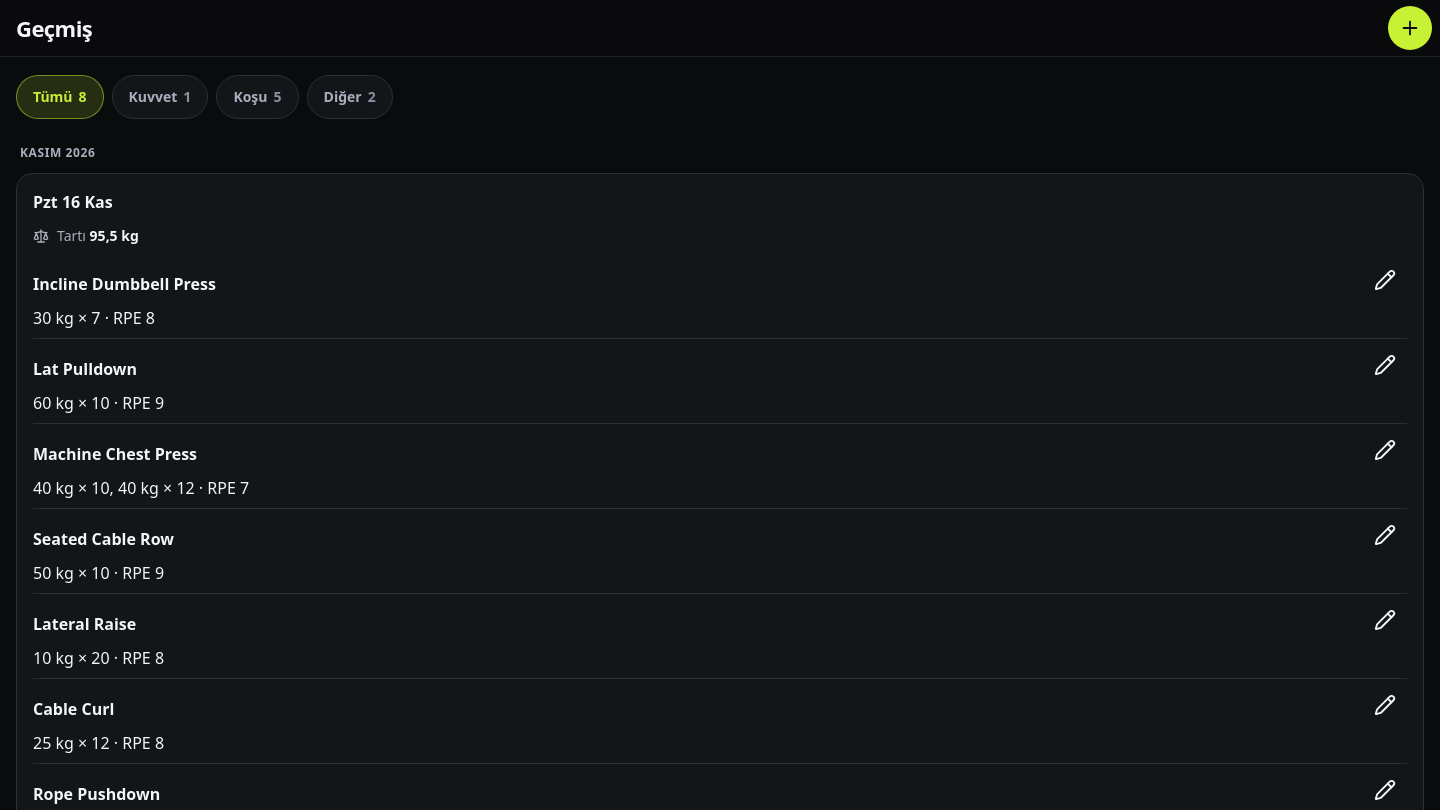
HistoryScreen › deletes every entry of an exercise-day only after confirmation
The image size is (1440, 810).
Click the button named "Machine Chest Press düzenle". click: (1385, 450)
box: x1=1363 y1=428 x2=1407 y2=472
(page scrolled)
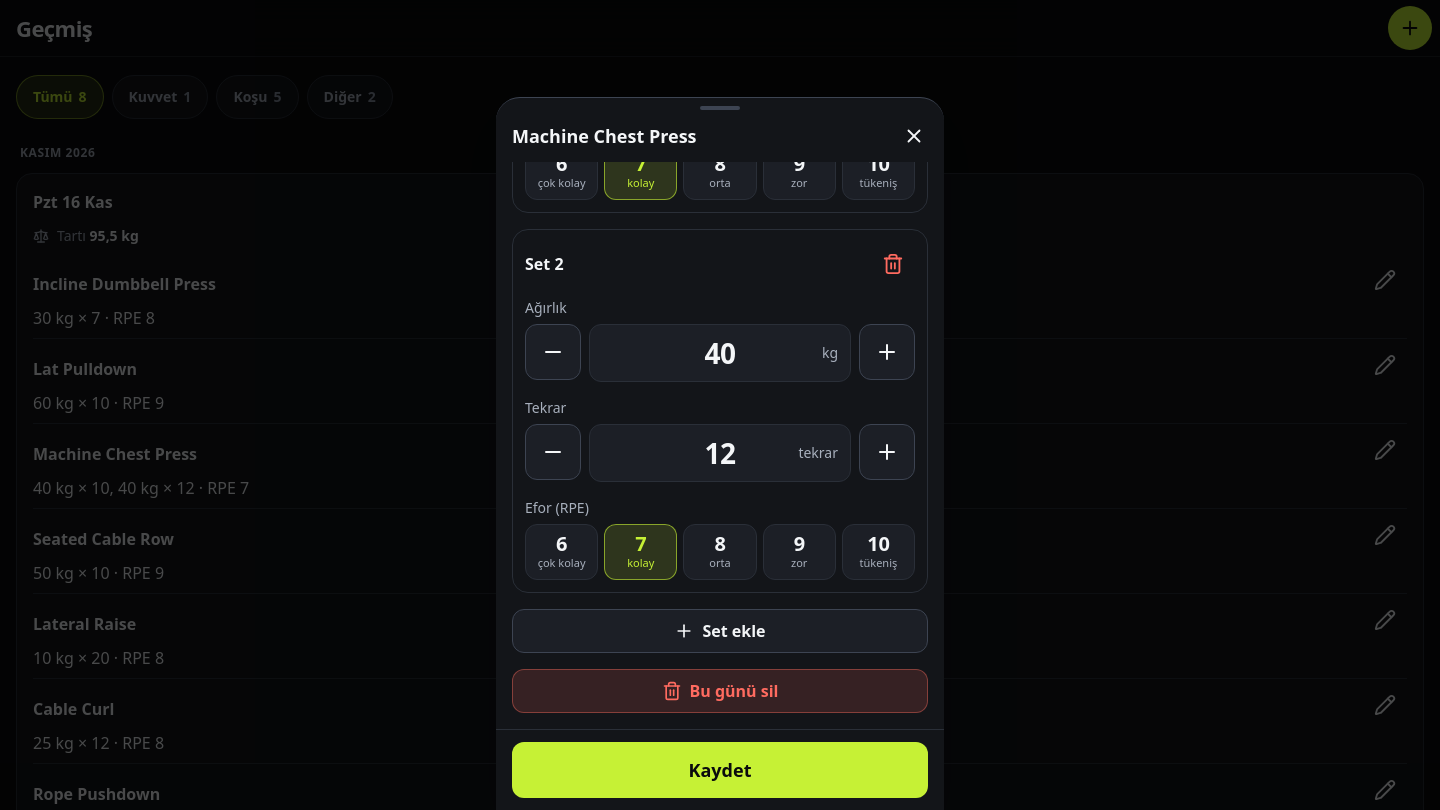
Click the button "Bu günü sil". click: (720, 691)
box: x1=512 y1=669 x2=928 y2=713
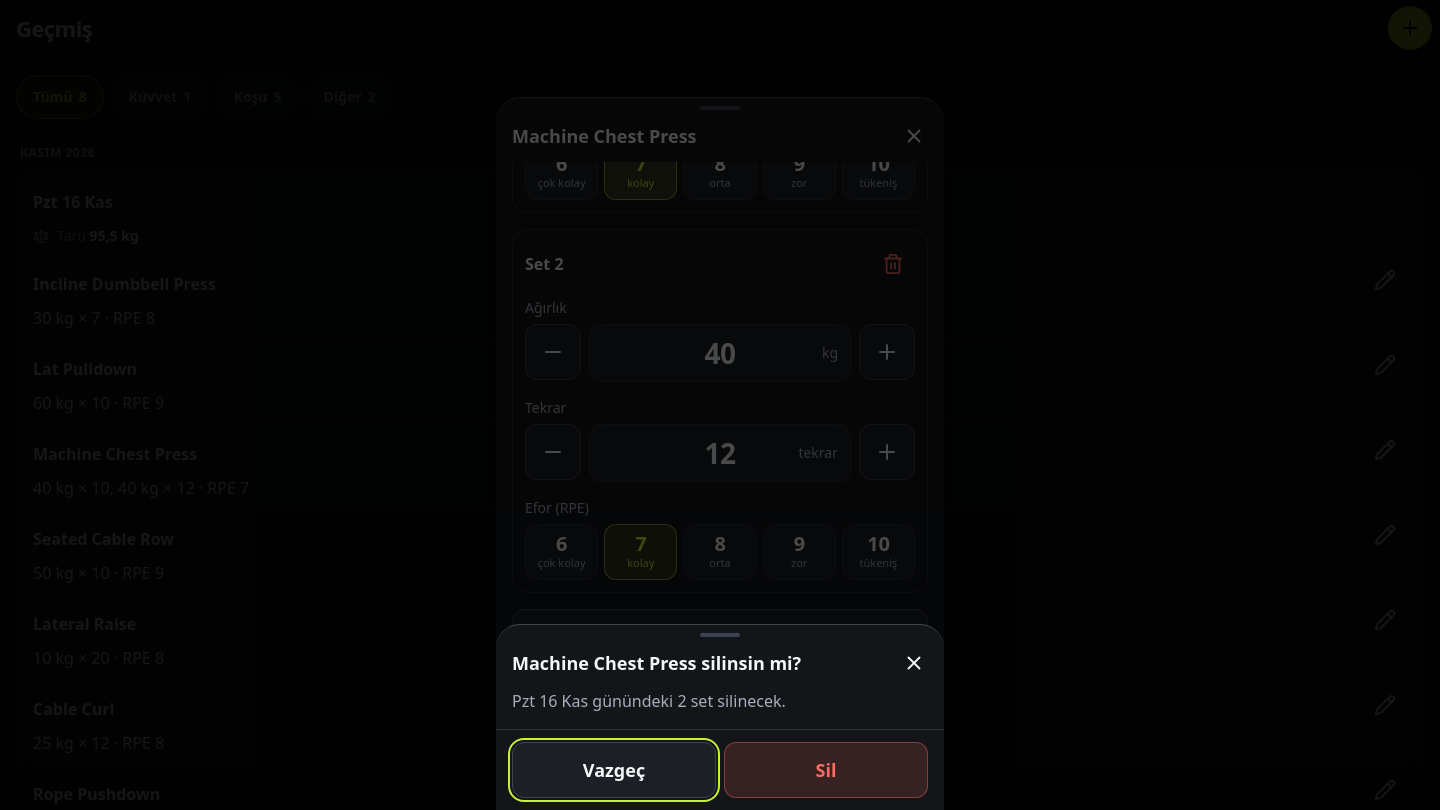
Click the button "Sil". click: (826, 770)
box: x1=724 y1=742 x2=928 y2=798
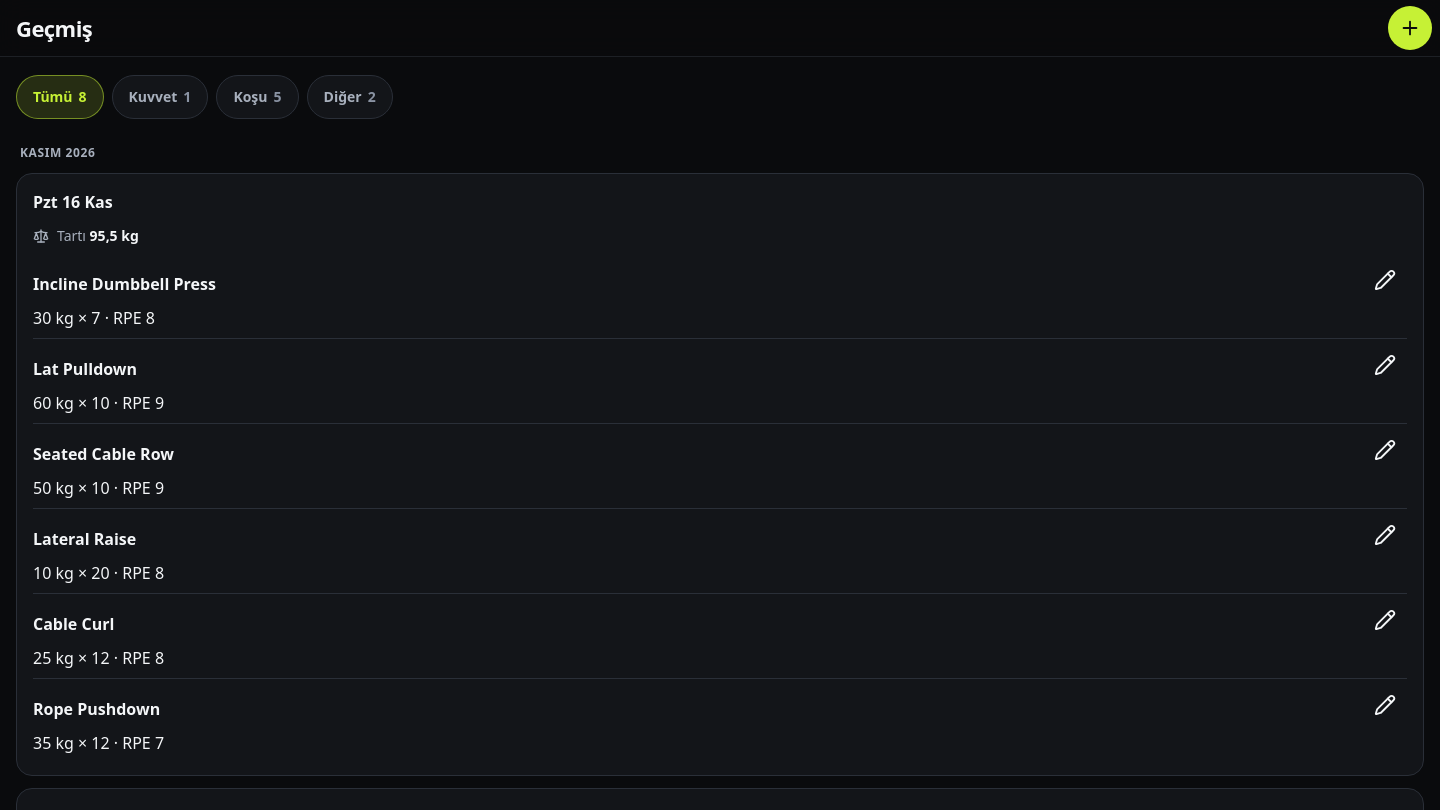
Check: the link "Rope Pushdown" is shown, box x1=33 y1=698 x2=160 y2=720
Check: the link "Machine Chest Press" is gone
